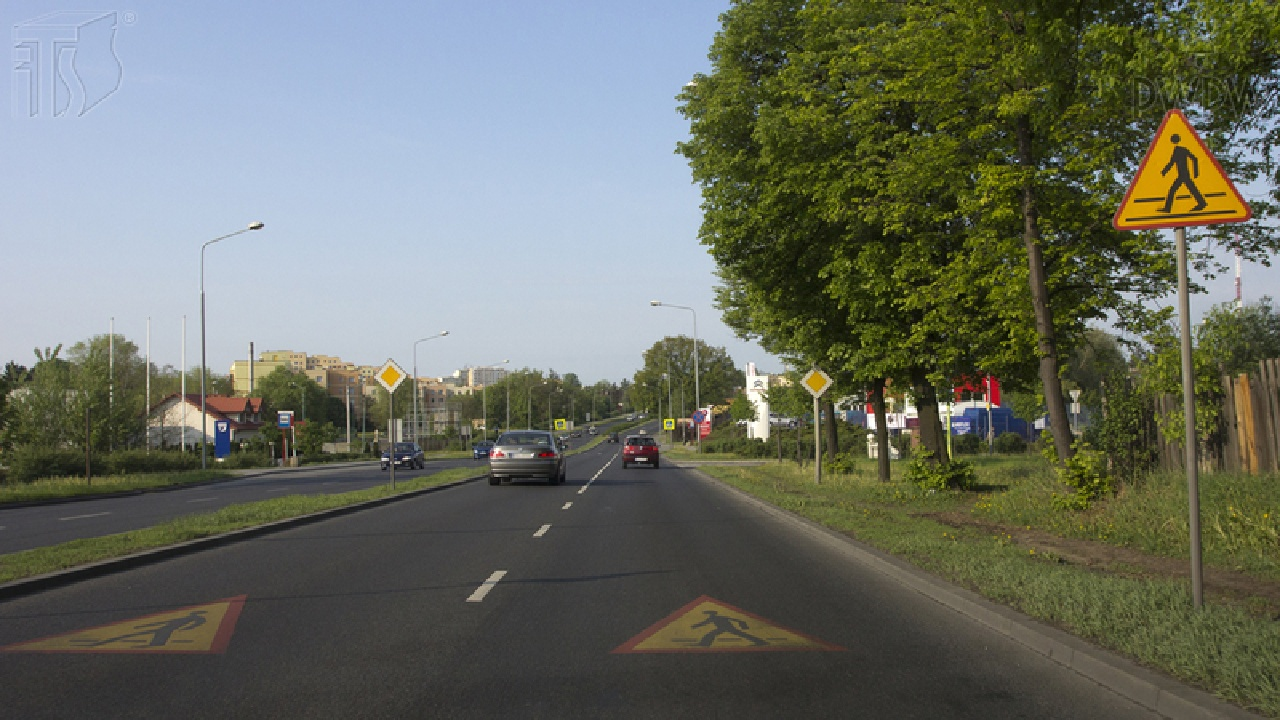A16: (1103, 105, 1254, 231)
D1: (374, 357, 410, 392), (800, 366, 833, 396)
